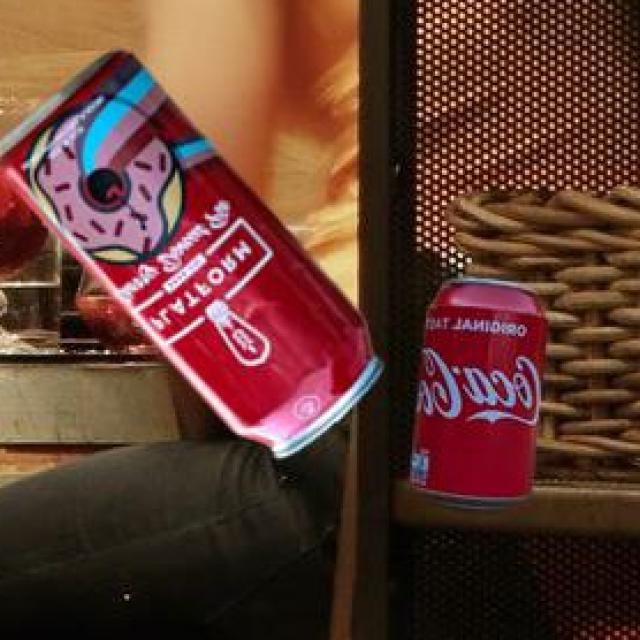logam: (1, 47, 386, 455), (413, 275, 551, 508)
